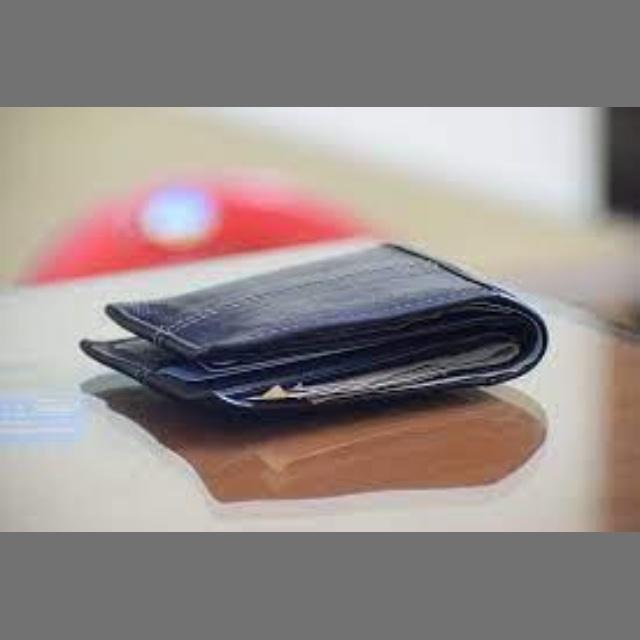Wallet: (65, 230, 580, 438)
